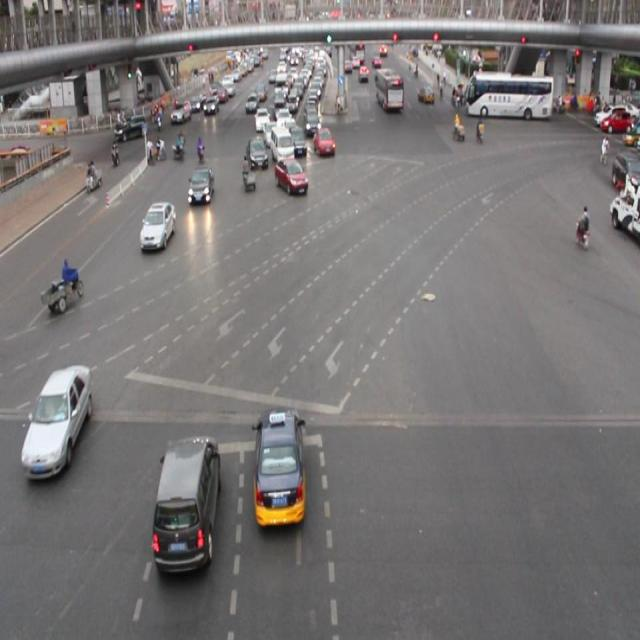car: (23, 367, 91, 477), (251, 407, 307, 530), (140, 202, 175, 250), (274, 158, 306, 194), (187, 167, 214, 206), (245, 136, 268, 171), (313, 126, 334, 158), (288, 123, 306, 158), (252, 107, 271, 134)
truck: (154, 431, 220, 570), (271, 126, 294, 167)
